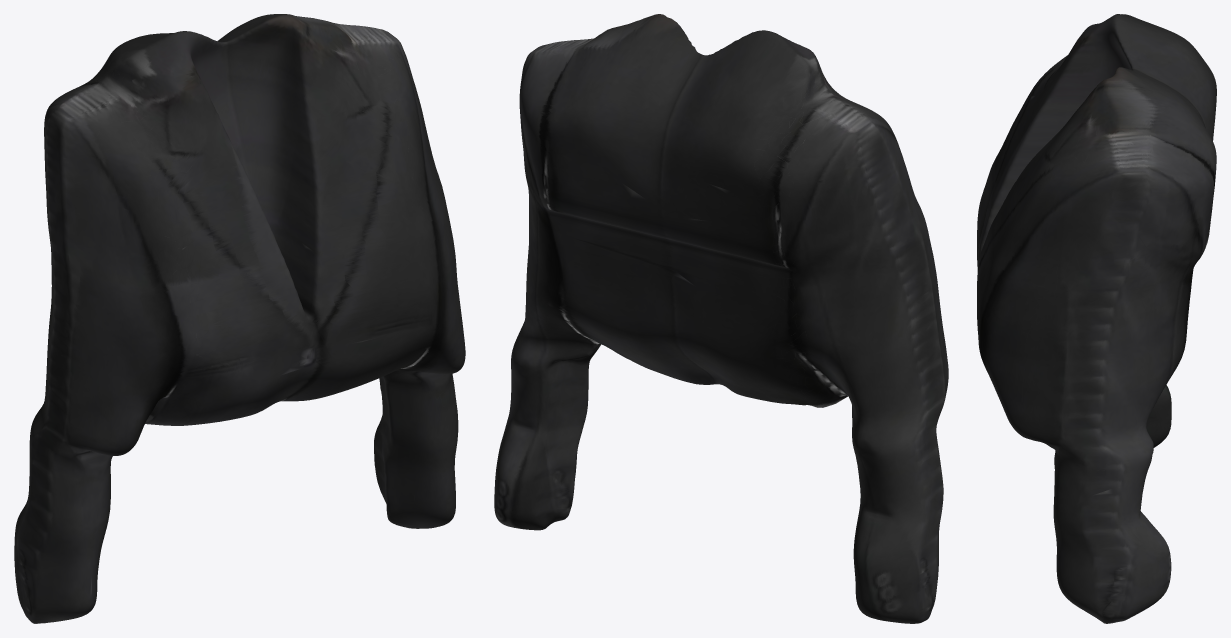
Rendered from NF007-worn-v3.glb.
The picture shows the model from 3 angles, left to right: view 1: azimuth 30°, elevation 25°; view 2: azimuth 150°, elevation 25°; view 3: azimuth 270°, elevation 25°; orthographic projection. The views are drawn at different scales.
Visible parts, largest first — view 1: NF007_worn_photo_fitted; view 2: NF007_worn_photo_fitted; view 3: NF007_worn_photo_fitted.
Boxes of the visible parts, box(x1,y1,x2,y2) form: NF007_worn_photo_fitted: box(14, 14, 465, 623); NF007_worn_photo_fitted: box(494, 14, 948, 623); NF007_worn_photo_fitted: box(977, 14, 1216, 623).
Bounding box in the file's own units: 0.5117 × 0.6405 × 0.2803.
1 material, 1 textured.
